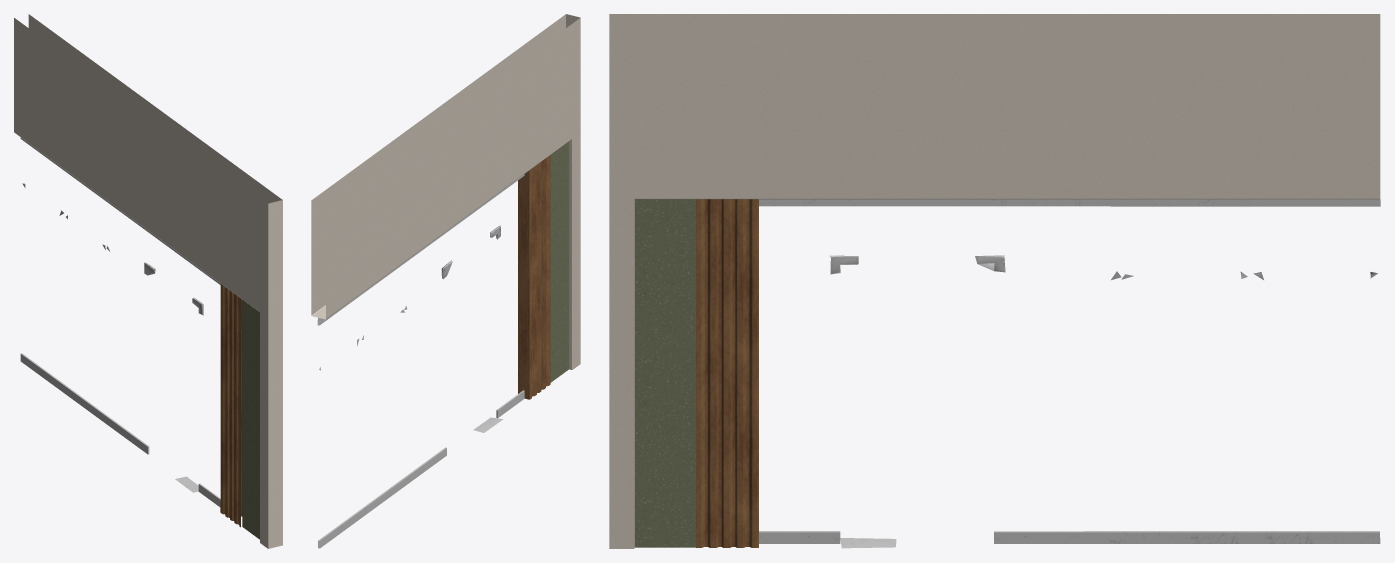
The model's file is SM_Office_wall01ag.fbx.
3 renders of one model, left to right at view 1: azimuth 30°, elevation 25°; view 2: azimuth 150°, elevation 25°; view 3: azimuth 270°, elevation 25°, orthographic. The views are drawn at different scales.
Parts seen in each view (by area): view 1: SM_Office_wall01ag_LOD0; view 2: SM_Office_wall01ag_LOD0; view 3: SM_Office_wall01ag_LOD0.
Boxes of the visible parts, <box> form: SM_Office_wall01ag_LOD0: <box>14,14,282,548</box>; SM_Office_wall01ag_LOD0: <box>311,14,580,548</box>; SM_Office_wall01ag_LOD0: <box>609,14,1380,548</box>.
Size of the model in its own units: 19.94 by 600 by 450.
